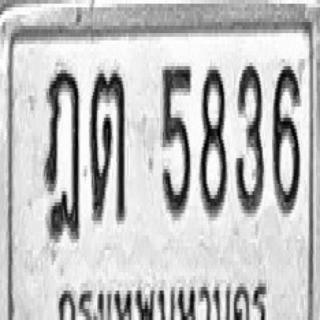A14: (43, 66, 80, 243)
A21: (90, 68, 125, 222)
N03: (235, 61, 264, 215)
N05: (162, 62, 192, 217)
N06: (272, 63, 299, 213)
N08: (199, 62, 226, 217)
